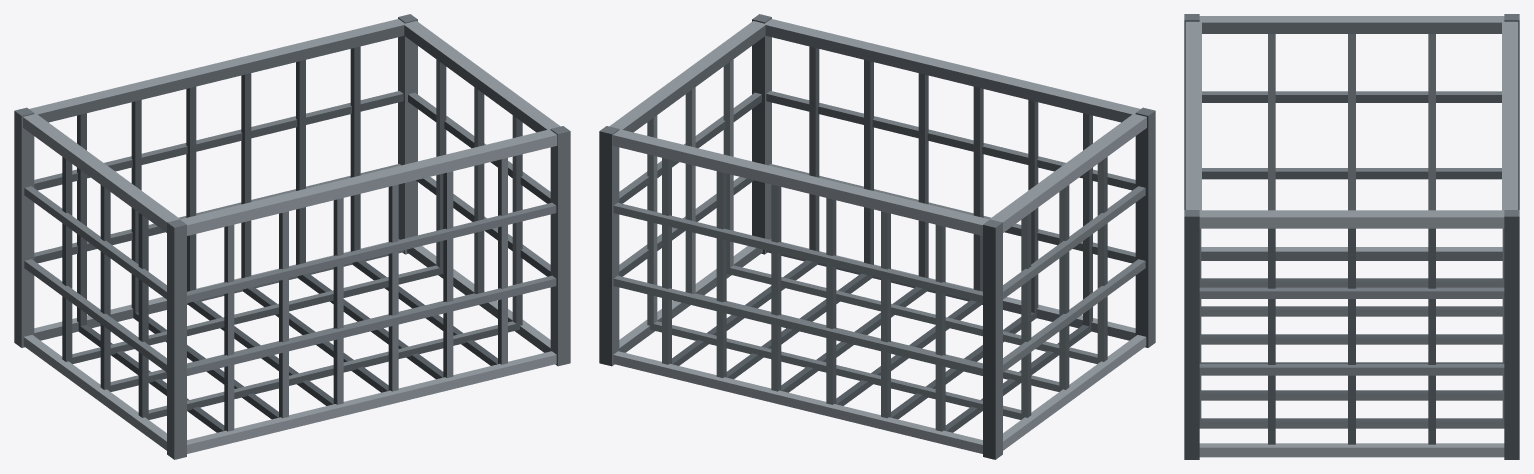
The model's file is FMS_Crate_Wire_Empty.fbx.
The picture shows the model from 3 angles, left to right: view 1: azimuth 30°, elevation 25°; view 2: azimuth 150°, elevation 25°; view 3: azimuth 270°, elevation 25°; orthographic projection. The views are drawn at different scales.
Visible parts, largest first — view 1: item_stalls_crate_wire_empty; view 2: item_stalls_crate_wire_empty; view 3: item_stalls_crate_wire_empty.
Part boxes in pixels (x1,y1,x2,y2): item_stalls_crate_wire_empty: (14, 14, 570, 459); item_stalls_crate_wire_empty: (599, 14, 1155, 459); item_stalls_crate_wire_empty: (1184, 14, 1519, 459).
Size of the model in its own units: 0.5 by 0.28 by 0.35.
